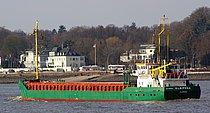Ship: (15, 13, 205, 105)
